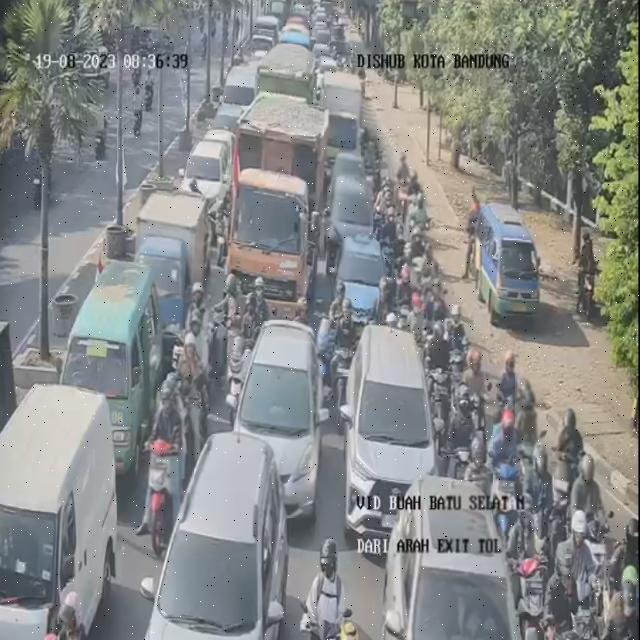cars: (148, 437, 295, 640), (388, 475, 526, 640), (348, 322, 443, 550), (55, 264, 155, 456), (234, 321, 328, 518), (478, 202, 544, 326), (336, 228, 388, 330), (327, 154, 373, 264), (188, 135, 230, 221), (228, 63, 258, 128), (316, 56, 336, 84), (312, 42, 330, 68)
motorcycle: (142, 381, 194, 543), (227, 276, 270, 421), (512, 510, 557, 640), (306, 536, 356, 640), (494, 400, 532, 536), (560, 511, 598, 640), (567, 448, 604, 578), (165, 332, 204, 437), (554, 402, 586, 524), (332, 301, 360, 422), (444, 381, 476, 485), (185, 279, 211, 392), (516, 374, 546, 458), (429, 324, 454, 420), (497, 347, 520, 450), (610, 561, 639, 640), (456, 347, 484, 426), (412, 231, 438, 302), (428, 278, 452, 351), (446, 306, 468, 373), (408, 226, 433, 280), (404, 180, 425, 239), (394, 152, 414, 200), (361, 124, 377, 180), (404, 169, 420, 225), (465, 195, 482, 242), (377, 182, 394, 222)
truck: (0, 378, 120, 635), (132, 191, 213, 354), (228, 166, 312, 318), (324, 68, 365, 174), (287, 12, 309, 43)
